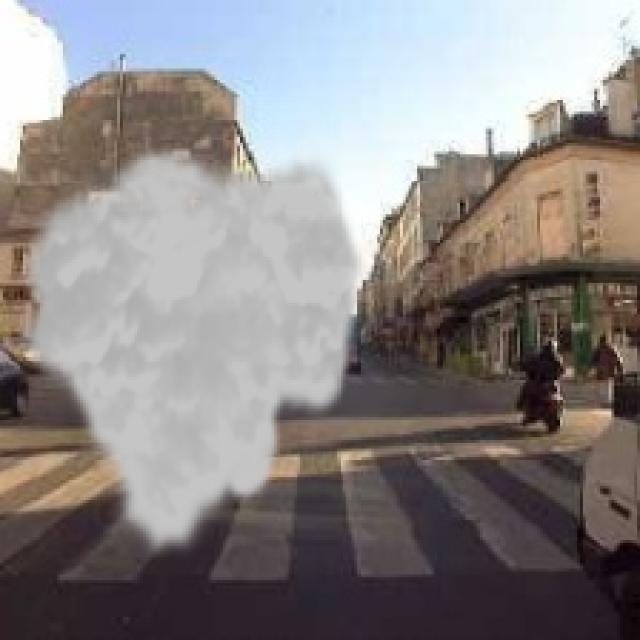smoke: (11, 143, 368, 563)
